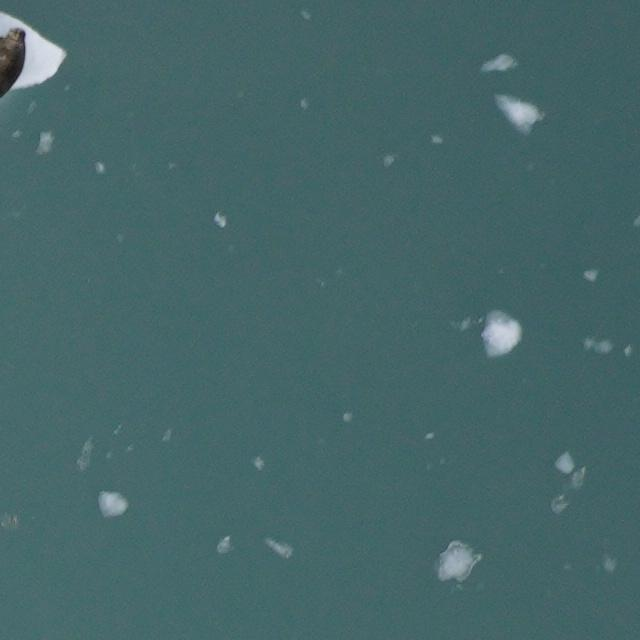seal: (0, 24, 30, 103)
